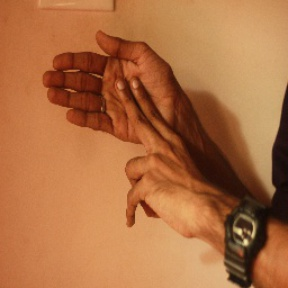N: (48, 27, 201, 224)
